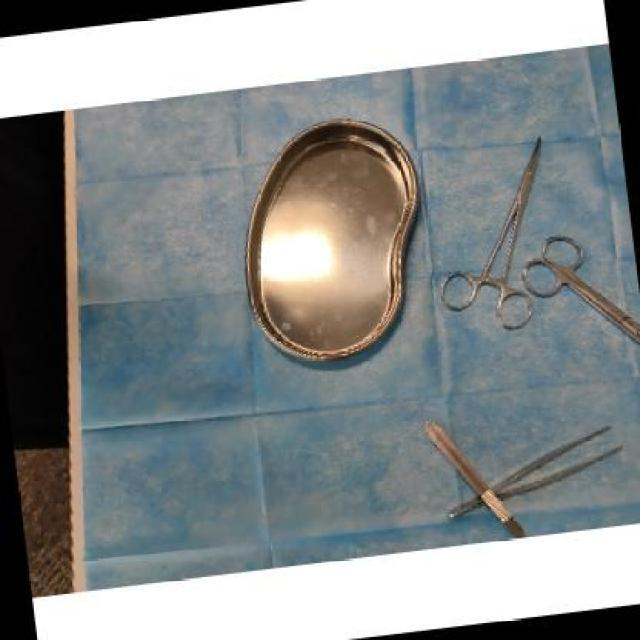Monitor: (68, 66, 640, 536)
